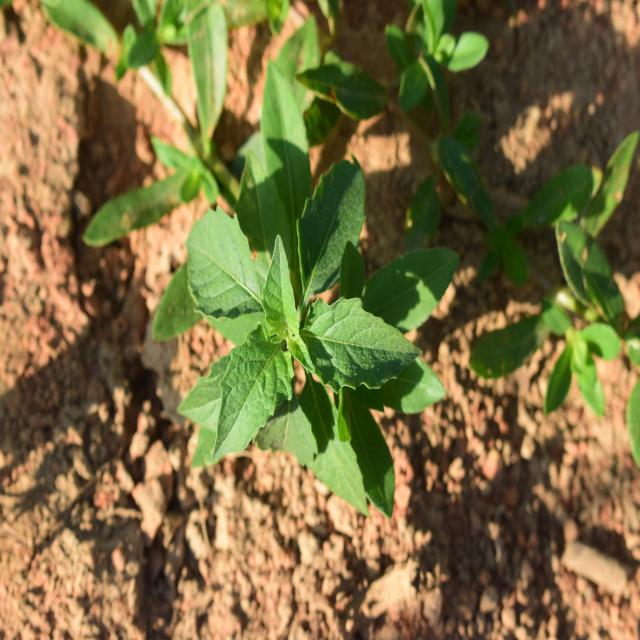Black_nightshade: (195, 178, 407, 512)
